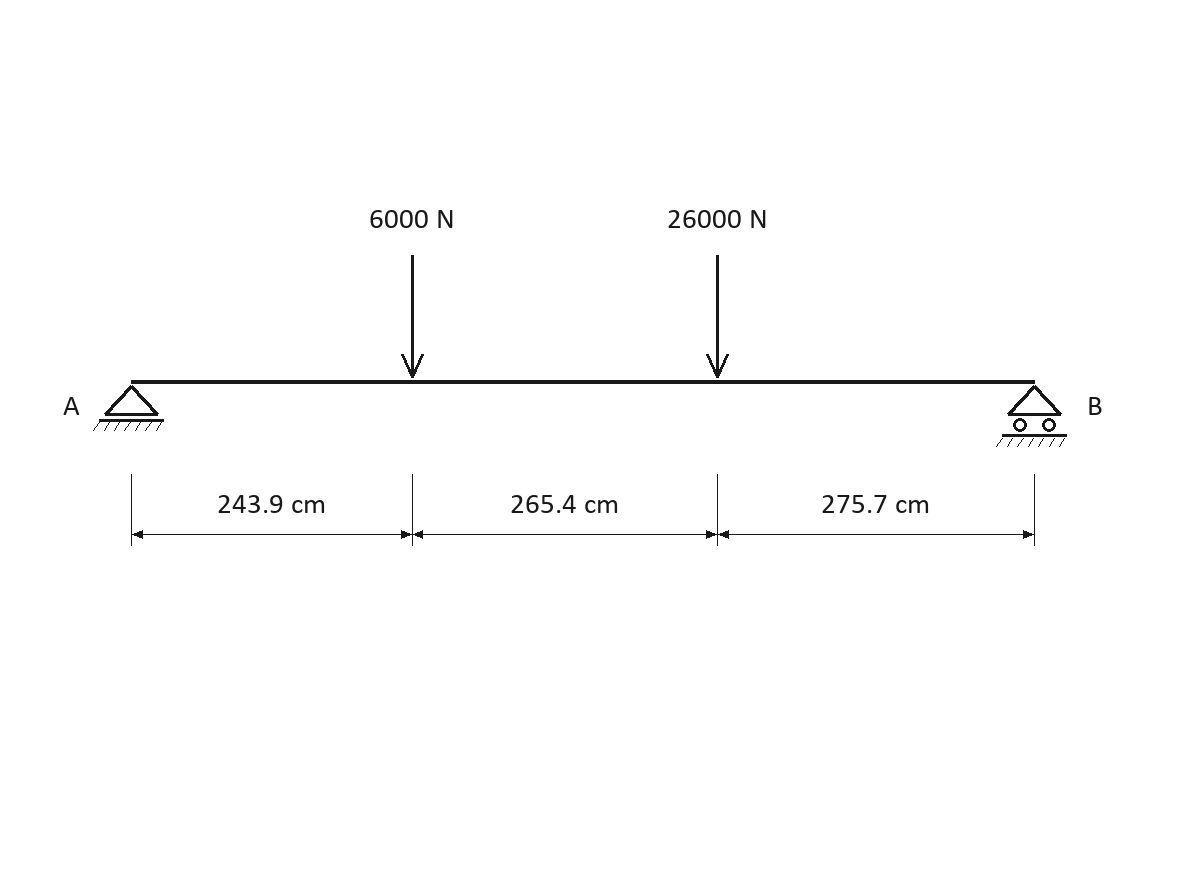pin_support: (93, 385, 164, 431)
point_load: (401, 255, 424, 378), (706, 255, 729, 378)
roller_support: (996, 385, 1067, 447)
